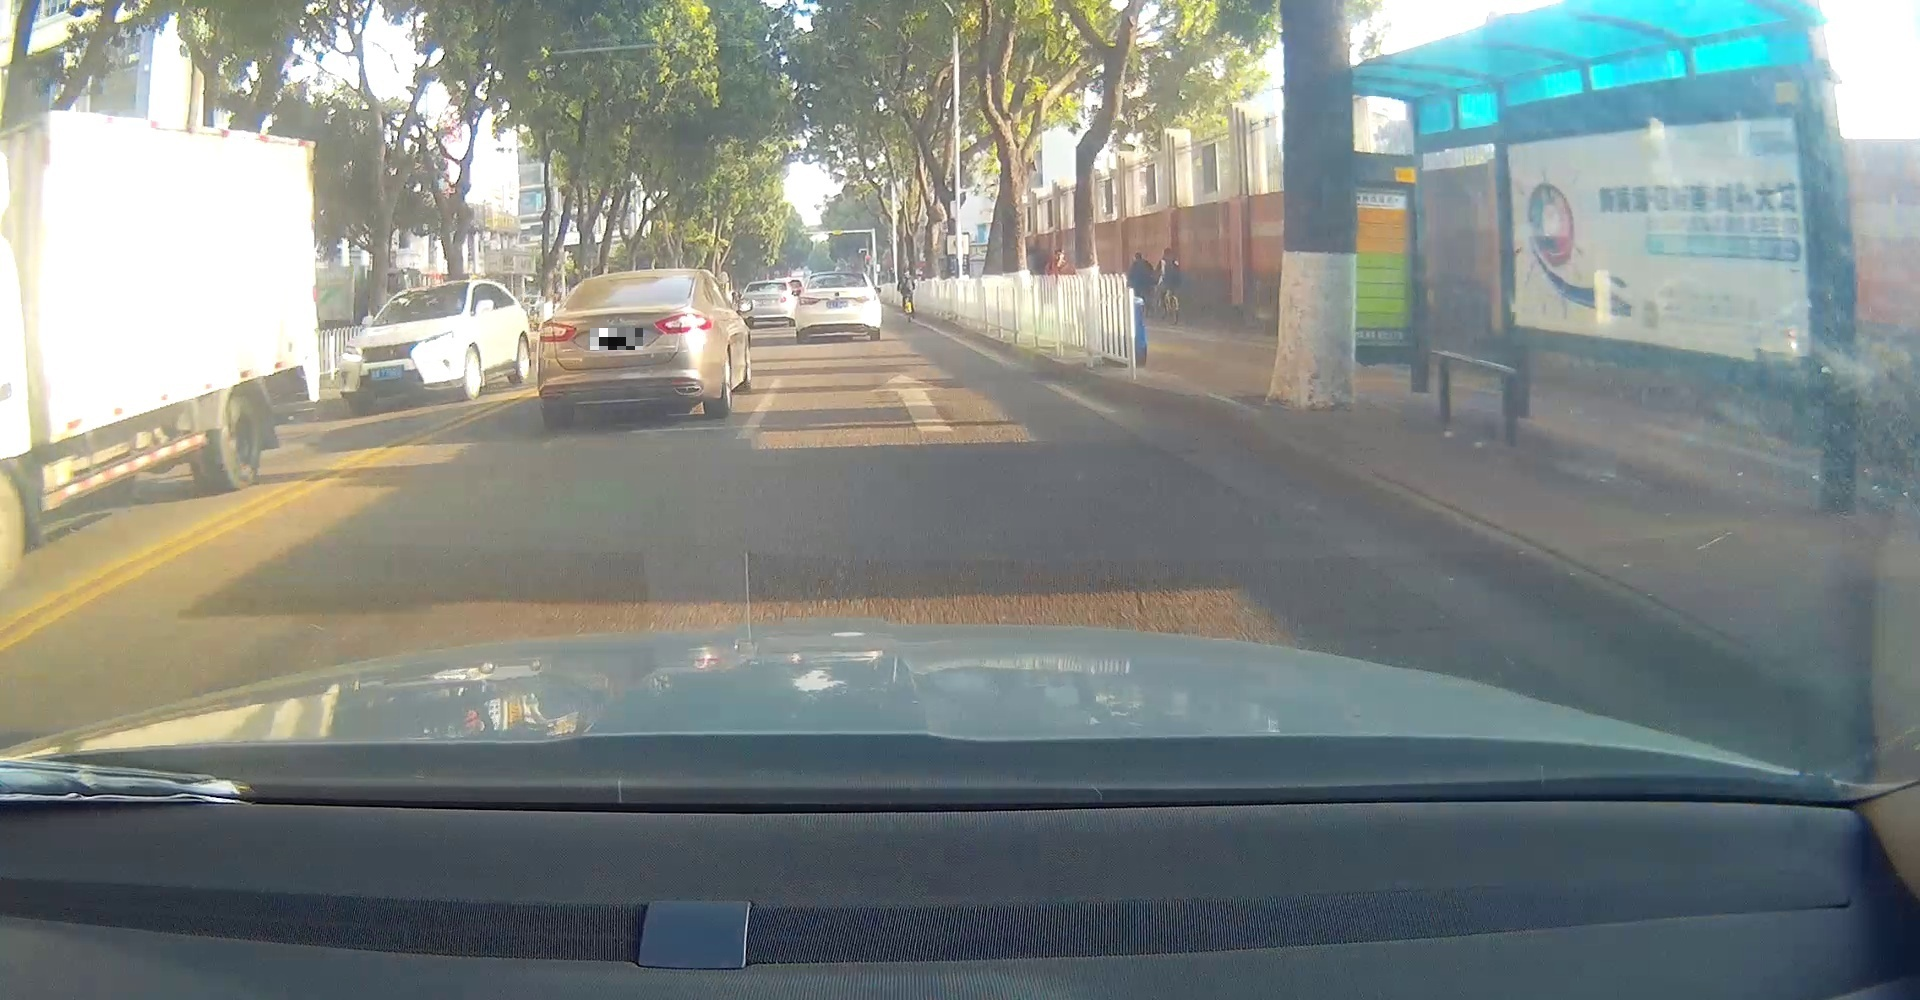L_light: (538, 319, 577, 341), (797, 296, 820, 306)
R_light: (654, 312, 712, 335), (858, 294, 879, 305)
T_light: (617, 280, 643, 286), (830, 274, 844, 277)
day-no: (538, 269, 717, 426), (796, 272, 883, 341)
plate_1: (590, 327, 643, 350)
